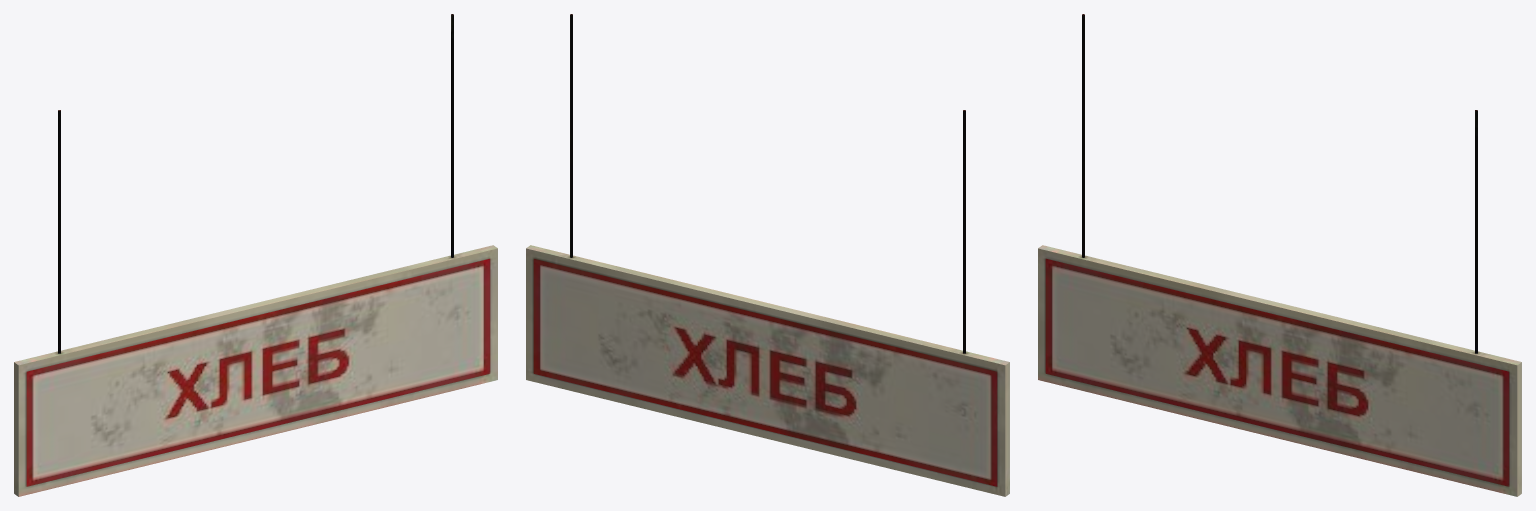
File: sign_khleb_lod1_web.glb
3 renders of one model, left to right at view 1: azimuth 30°, elevation 25°; view 2: azimuth 150°, elevation 25°; view 3: azimuth 330°, elevation 25°, orthographic.
Visible parts, largest first — view 1: SignKhleb_Body; view 2: SignKhleb_Body; view 3: SignKhleb_Body.
Boxes of the visible parts, bbox=[...] form: SignKhleb_Body: bbox=[14, 14, 497, 496]; SignKhleb_Body: bbox=[526, 14, 1009, 496]; SignKhleb_Body: bbox=[1038, 14, 1521, 496].
Size of the model in its own units: 1.22 by 0.91 by 0.021.
Materials: 1 (1 with a texture image).
